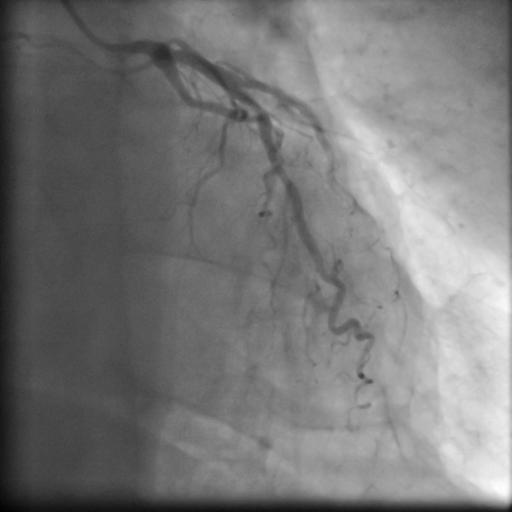Stenosis: (238, 107, 263, 124)
